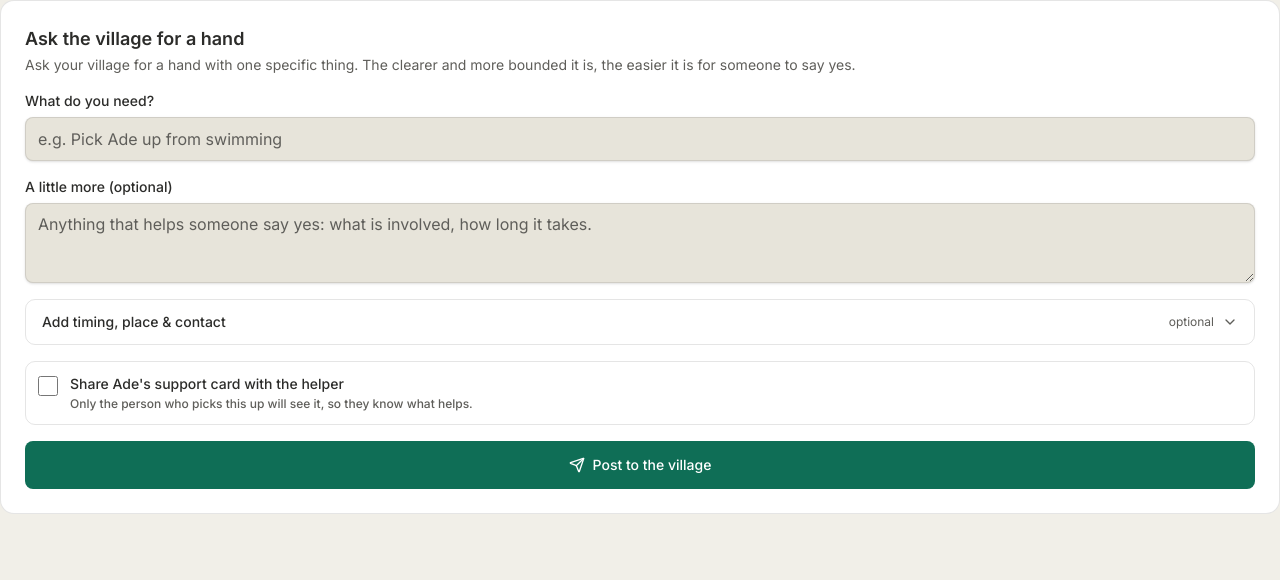
Test case: card-on-task: the attach toggle (owner) › is shown when the flag is on, and reveals the governed consent only when toggled
The image size is (1280, 580).
Check: the text "I confirm I may share Ade's support card" is not shown
Click the checkbox labelled "Share Ade's support card".
click(48, 386)  # box [38,376,58,396]
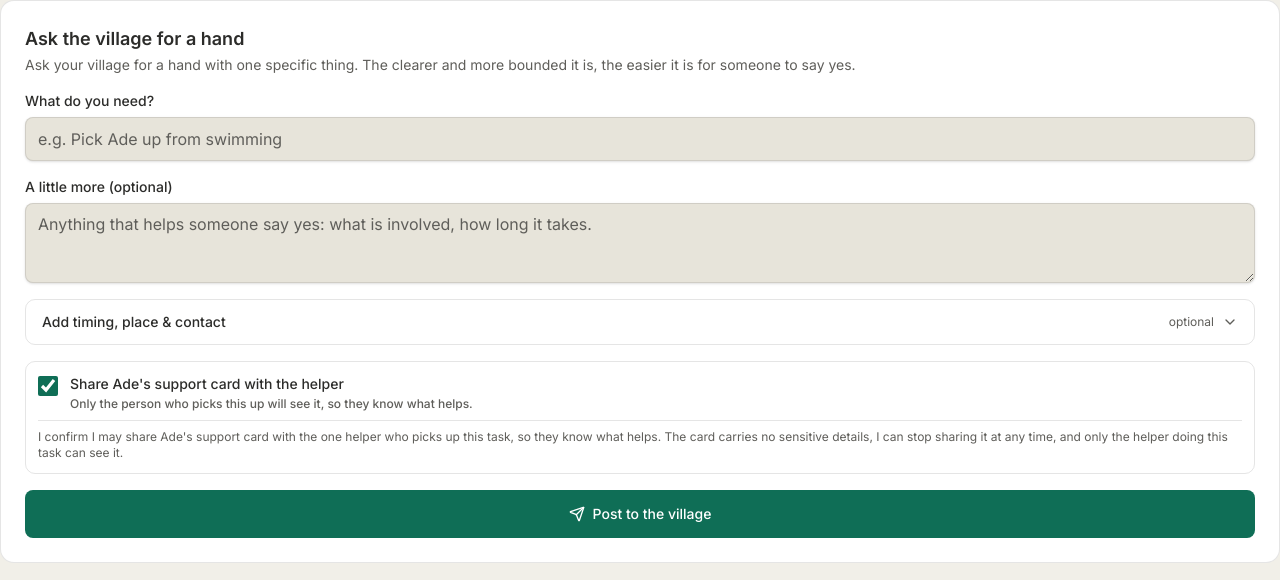
Check: the text "I confirm I may share Ade's support card" is shown, box [38,429,1228,460]
